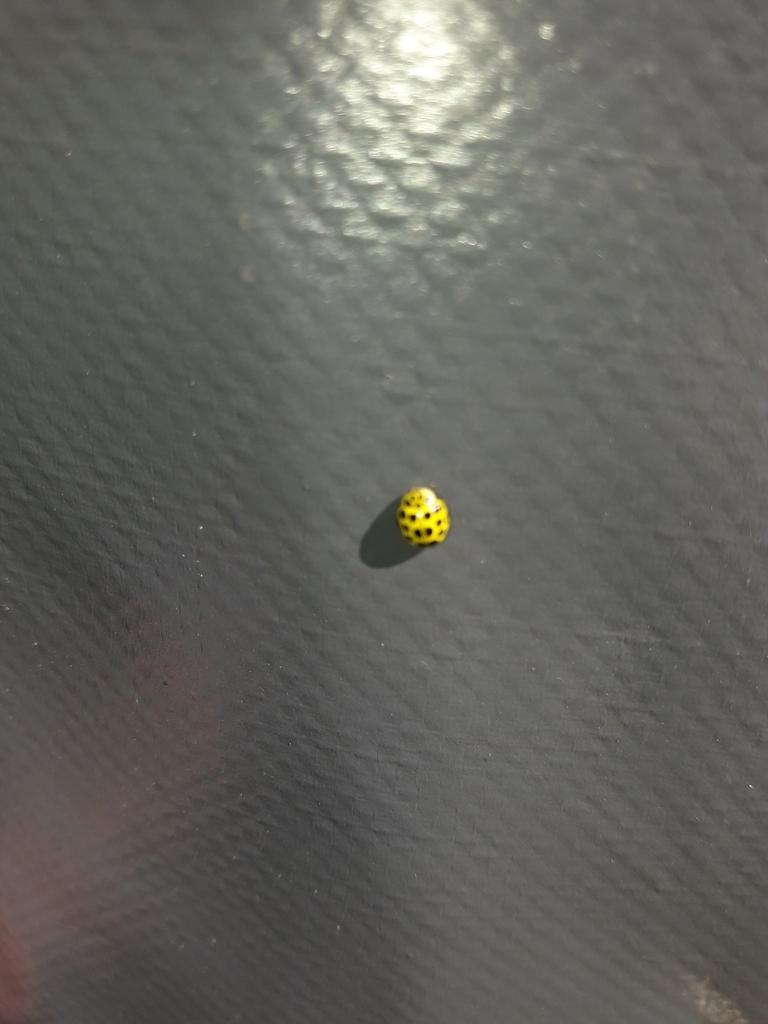ladybug: (394, 483, 456, 553)
